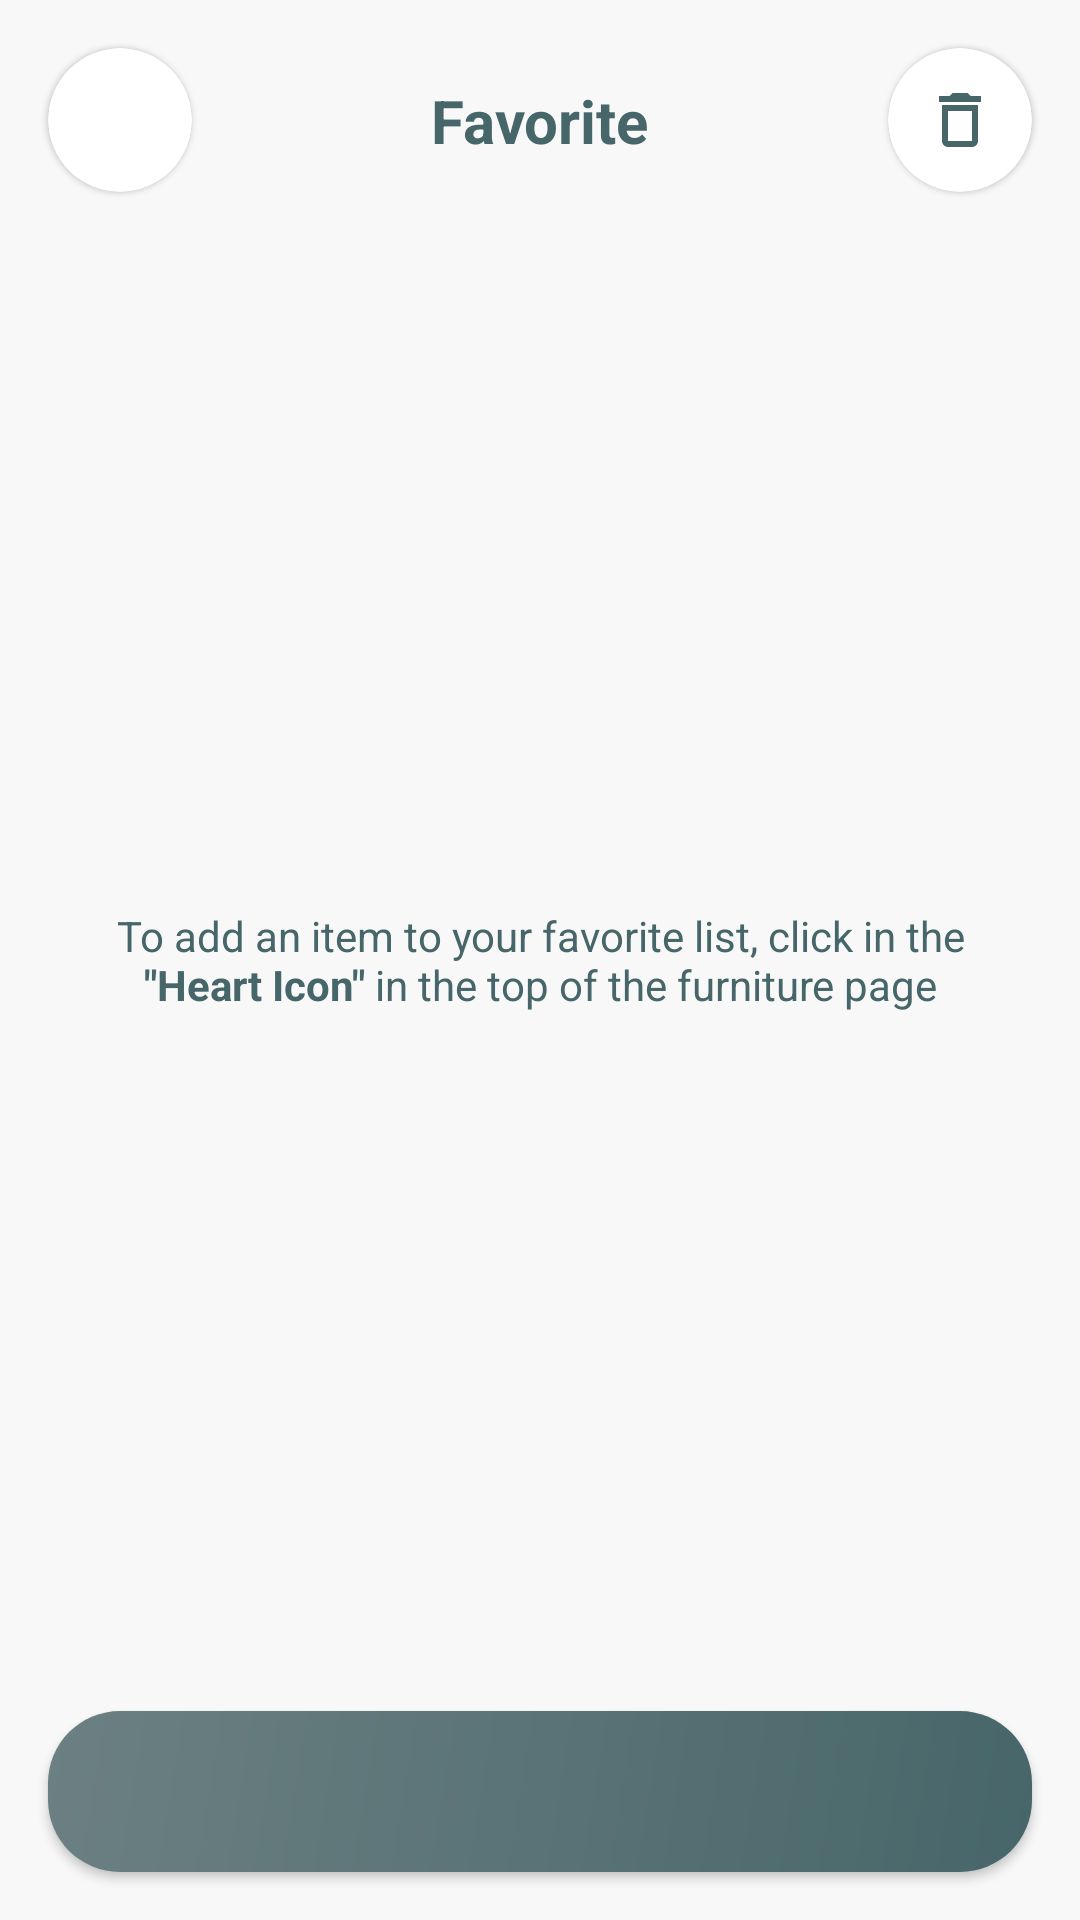

Icon click points for this 1080*1920 phone screenshot, format (x,y):
delete: (976,120)
